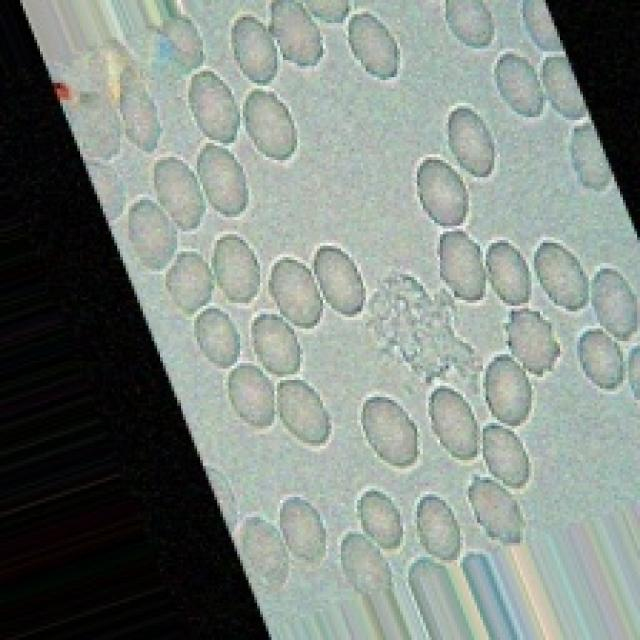Spherical_bacteria: (14, 0, 637, 637)
